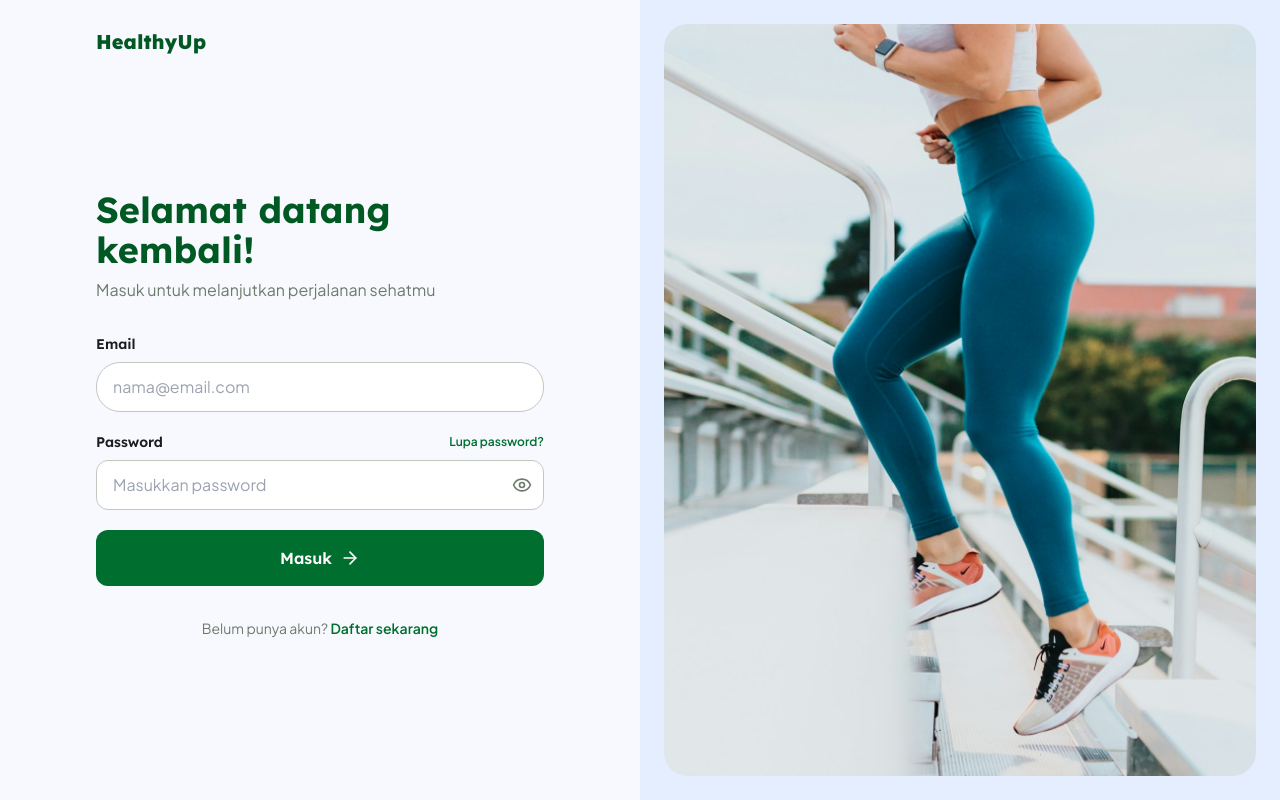
it: Login Page › menampilkan error saat submit form kosong
Click the button "Masuk" at [320, 558], box [96,530,544,586]
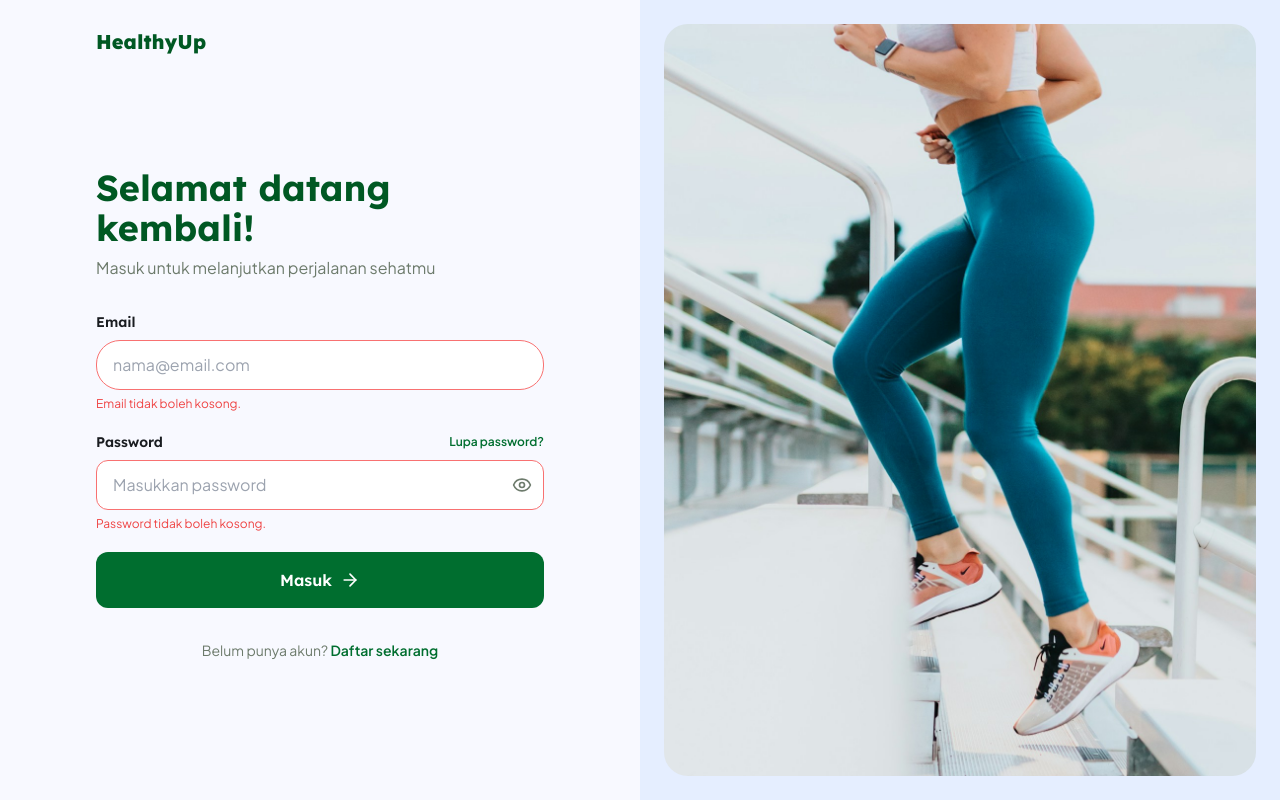
expect the text "Email tidak boleh kosong." is shown: met, box [96,396,241,411]
expect the text "Password tidak boleh kosong." is shown: met, box [96,516,266,531]
